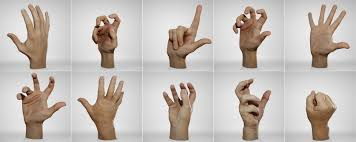click: (305, 90, 341, 128)
move: (4, 4, 66, 63), (163, 1, 213, 66), (304, 2, 355, 60), (18, 72, 67, 131), (80, 74, 128, 133), (232, 4, 275, 64), (86, 9, 129, 67), (233, 77, 275, 131), (157, 81, 199, 128)
